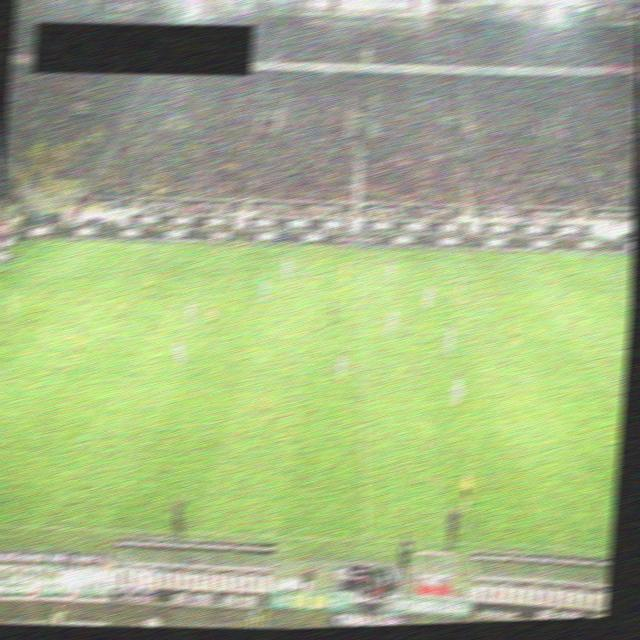bigarea_top_inner: (104, 265, 119, 279), (603, 278, 619, 291)
bigarea_top_outter: (0, 260, 9, 273)
bottom_arc_area_intersection: (20, 341, 37, 354)
corner: (35, 236, 50, 249)
halfcircle_bottom: (353, 363, 369, 376)
halfcircle_top: (351, 299, 367, 312)
midline_bottom_intersection: (358, 530, 375, 548)
midline_top_intersection: (350, 242, 365, 256)
smallarea_top_inner: (0, 288, 7, 301)
top_arc_area_intersection: (71, 294, 87, 307)
